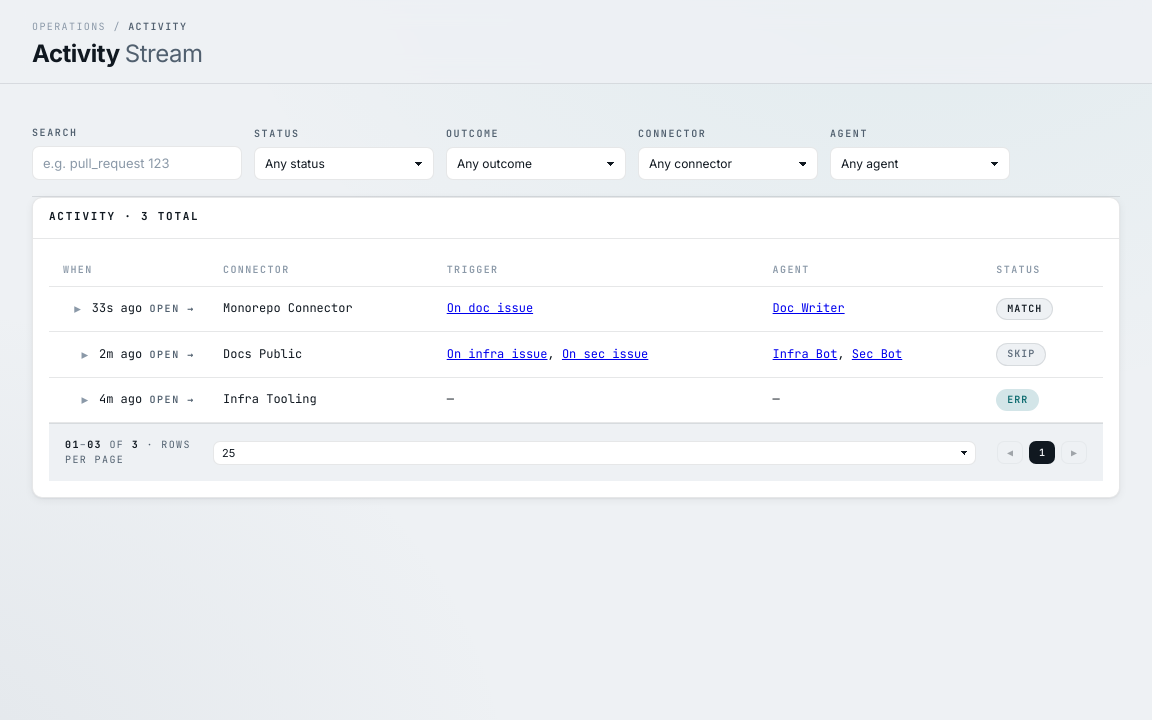
Test case: Activity › filters by agent to show only events with that agent
Check: the link with aria-label "Open event e1" is shown, box [49,286,1103,332]
Filter by doc-writer — only e1 has this agent
Select "Doc Writer" in the dropdown named "filter by agent": (920, 164) [830,147,1010,180]
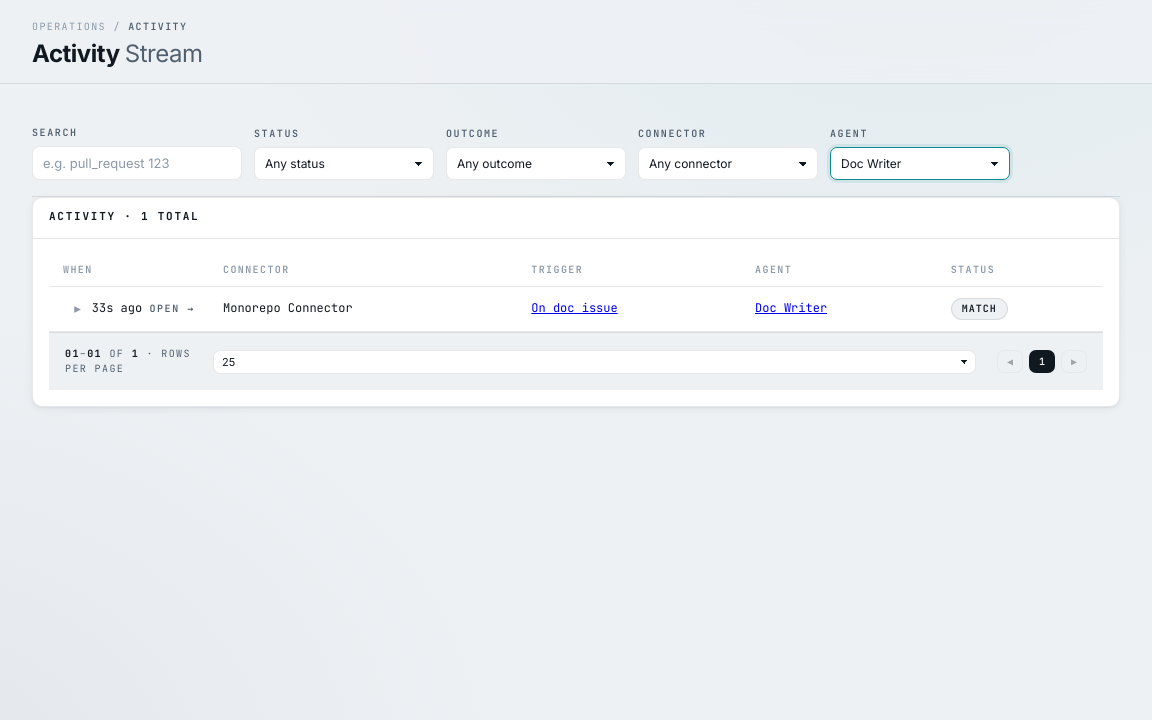
Check: the table shows "Monorepo Connector", box [223,300,353,316]
Check: the link "Infra Tooling" no longer shows "Infra Tooling"
Check: the link "Docs Public" no longer shows "Docs Public"
